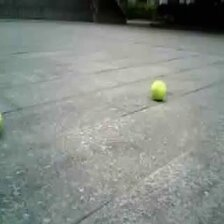tennis: (151, 81, 167, 101)
